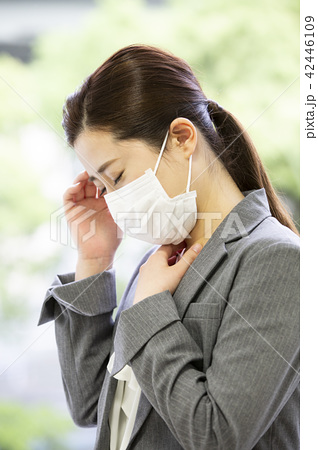mask: (103, 175, 197, 255)
